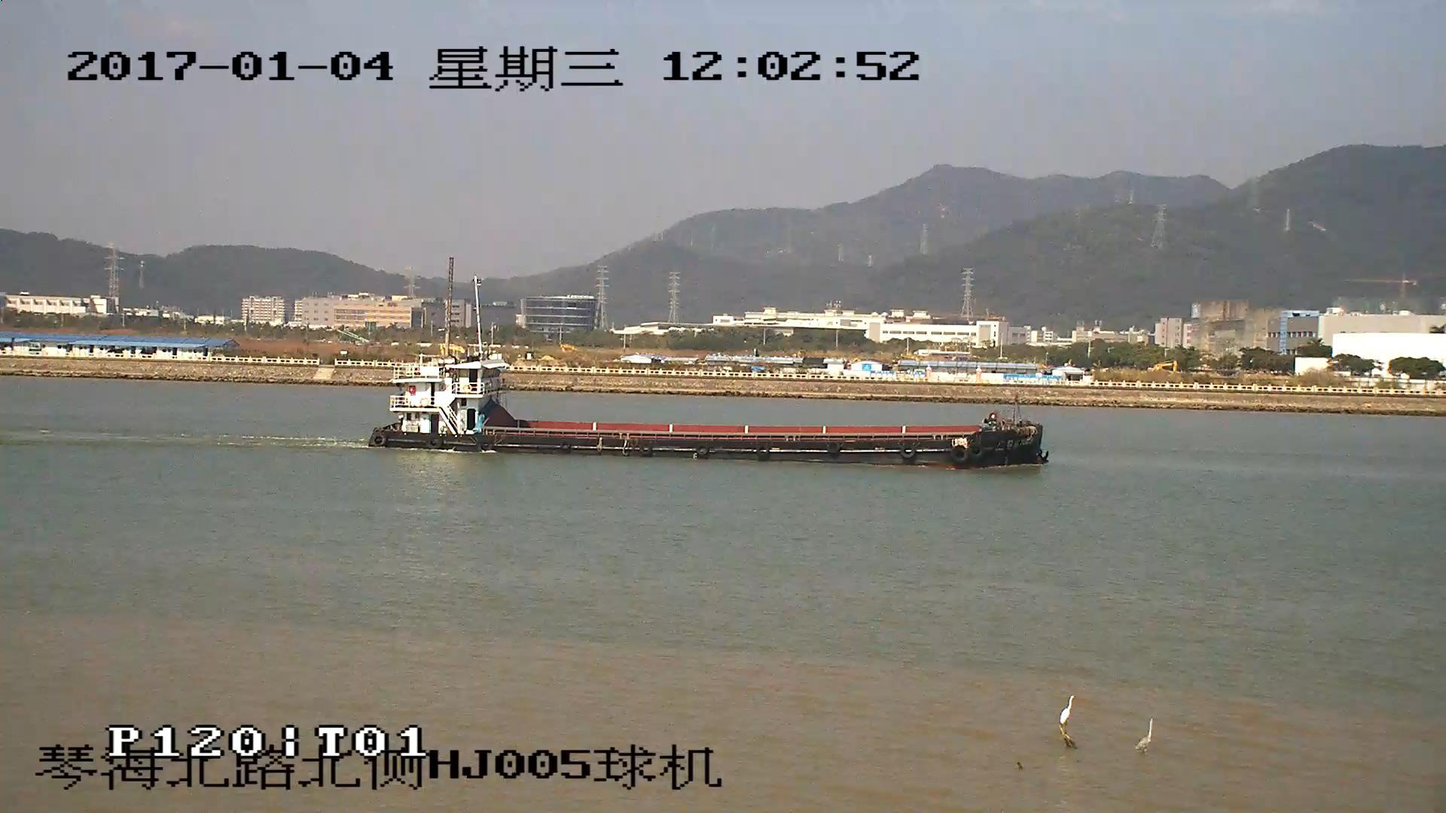general cargo ship: (367, 361, 1051, 466)
